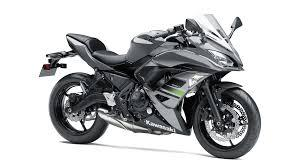motorcycle: (36, 12, 262, 158)
